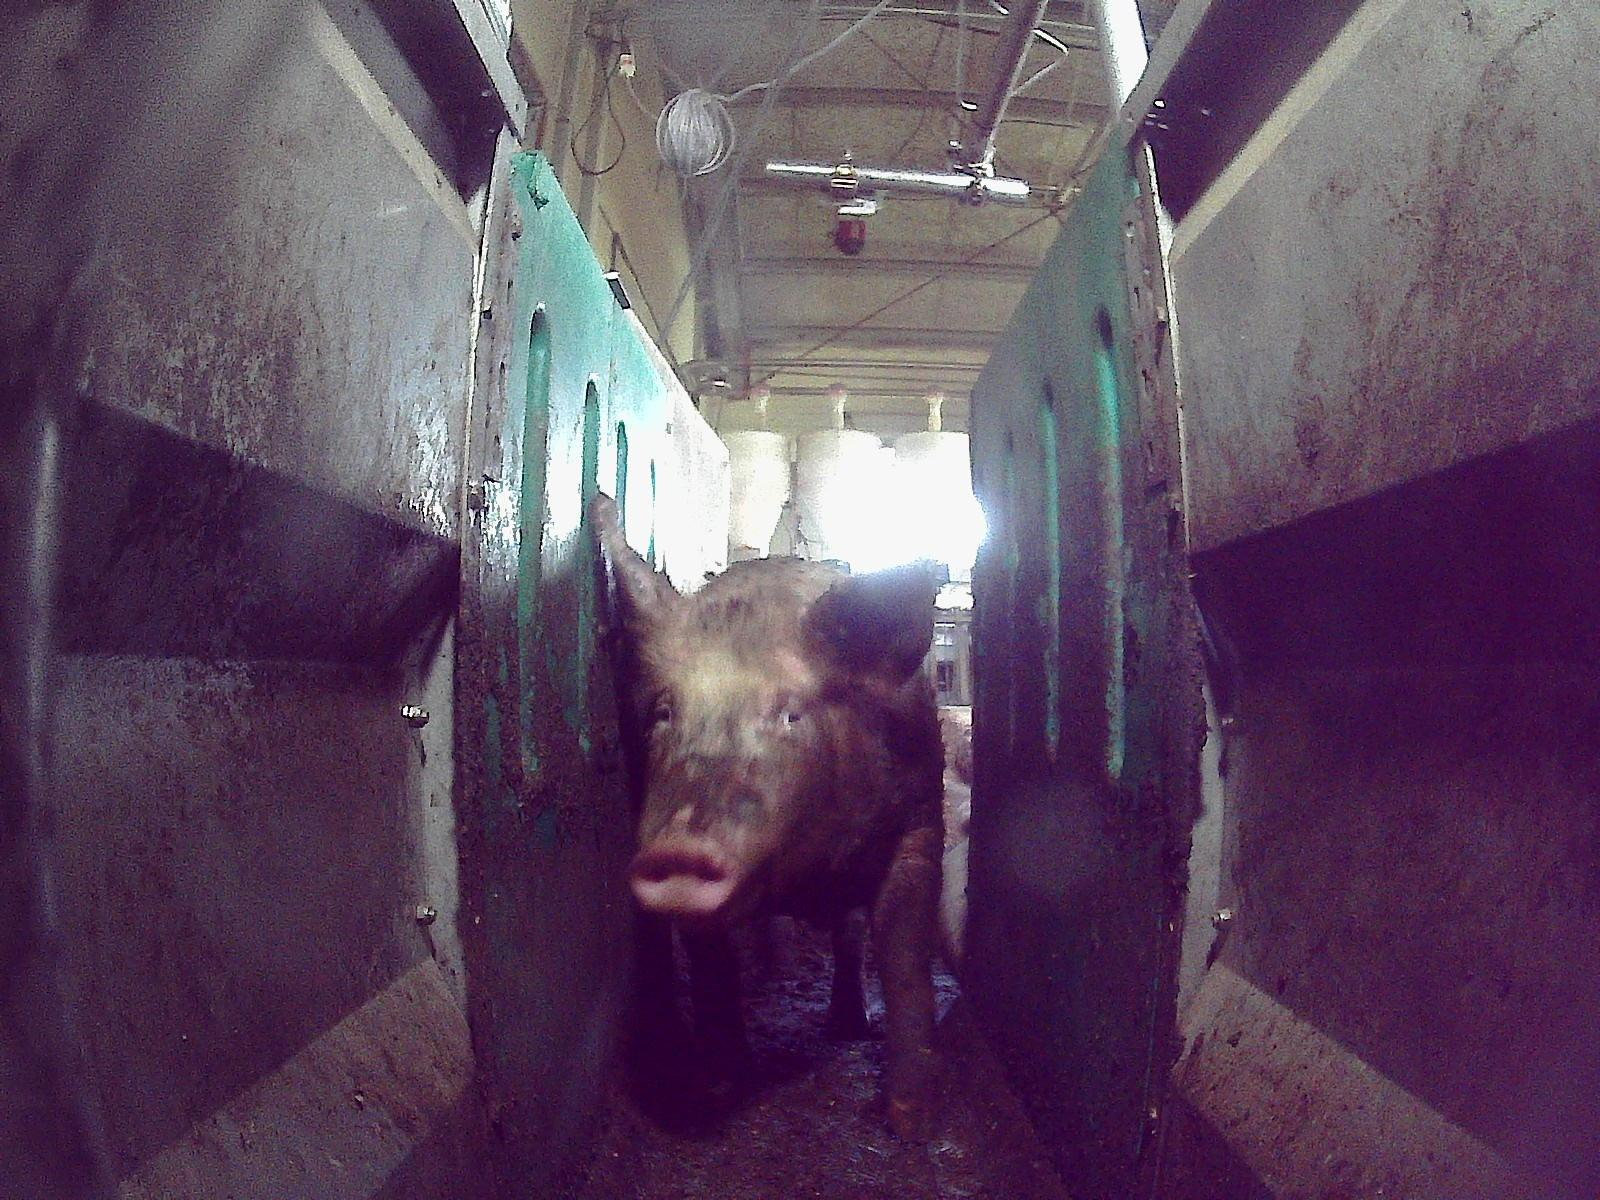Face: (633, 611, 847, 918)
